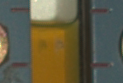border: (88, 62, 113, 71), (9, 60, 34, 69), (9, 6, 30, 13), (88, 7, 109, 14)
liquidlevel: (29, 16, 81, 30)
